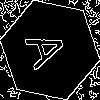A: (25, 25, 76, 72)
